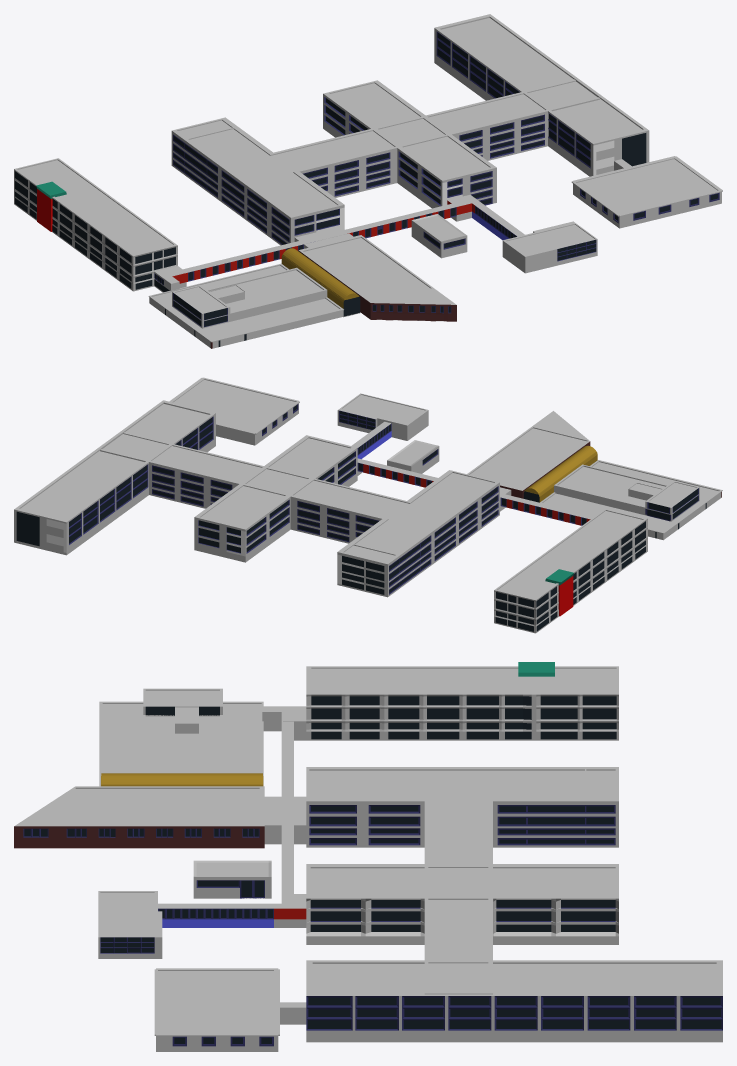
Rendered from Nijenborg.fbx.
3 views of the same model, one above another, from view 1: azimuth 30°, elevation 25°; view 2: azimuth 150°, elevation 25°; view 3: azimuth 270°, elevation 25° (orthographic). The views are drawn at different scales.
Visible parts, largest first — view 1: Cube.001; view 2: Cube.001; view 3: Cube.001.
Boxes of the visible parts, x1,y1,x2,y2 form: Cube.001: [14, 14, 722, 348]; Cube.001: [14, 377, 722, 633]; Cube.001: [14, 662, 722, 1051].
Bounding box in the file's own units: 1361 × 91.76 × 1192.
